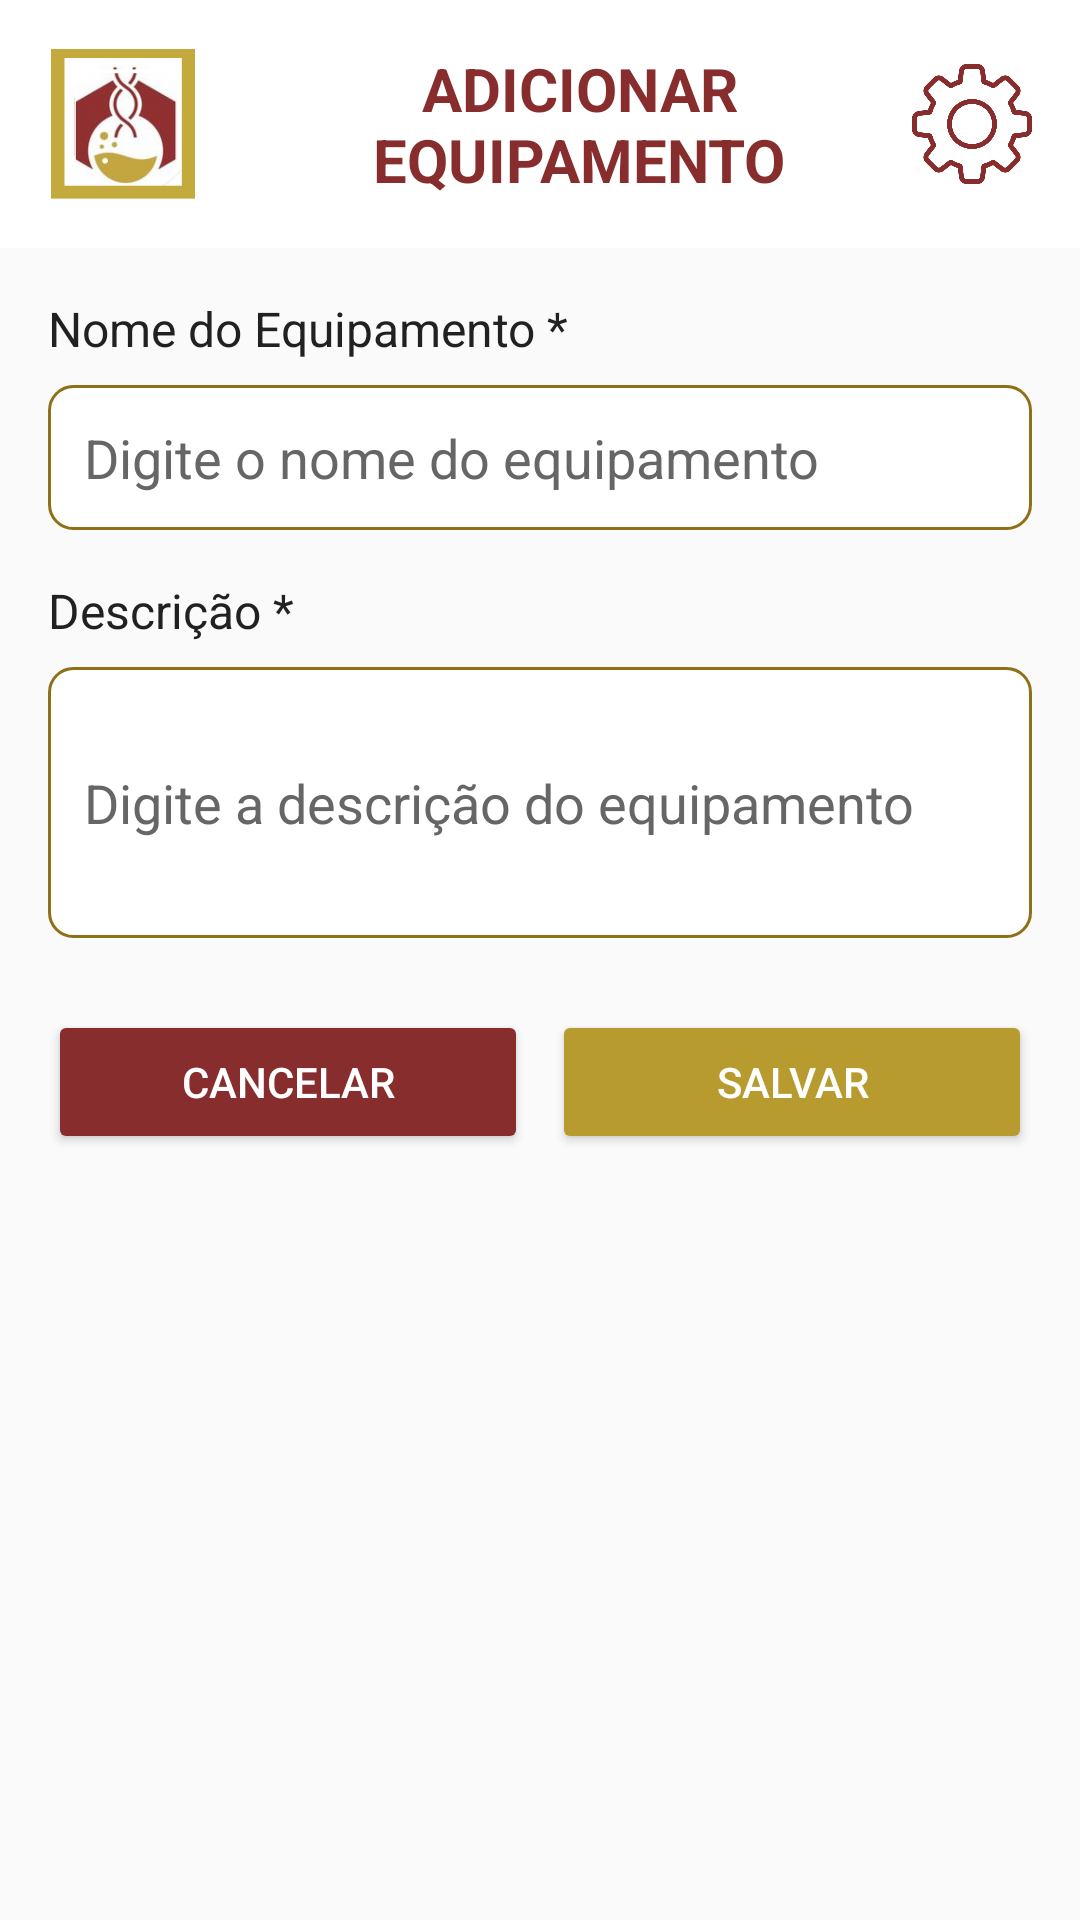

Point at icon controls on the screen. Image size 1080px x 1920px, points as (x=x, y=y).
Configurações: (x=972, y=124)
